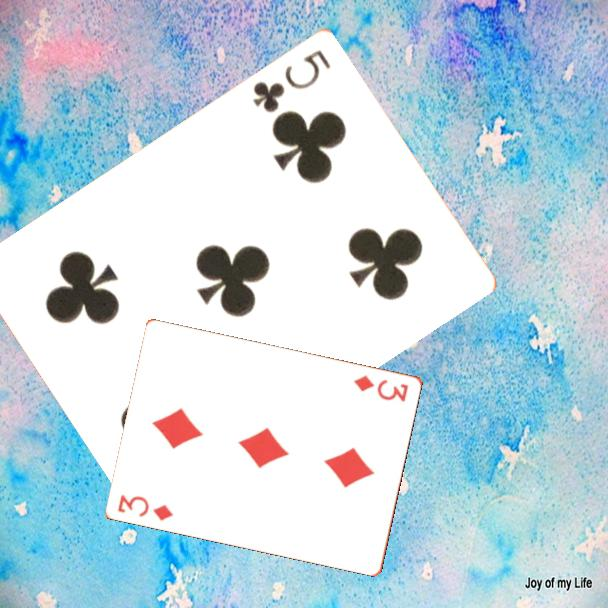c05: (249, 45, 334, 116)
d03: (351, 371, 412, 404), (114, 491, 176, 523)
